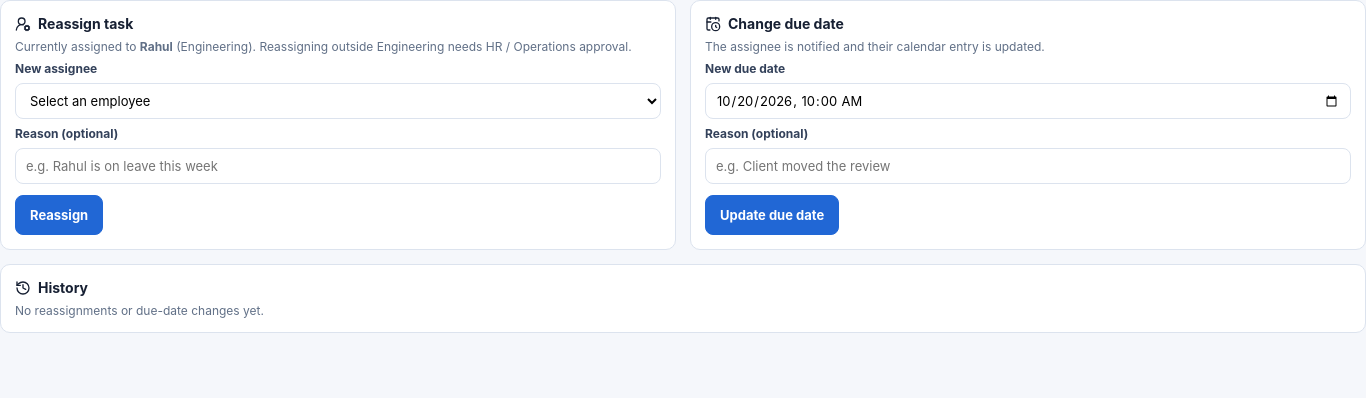
TaskManagePanel › labels cross-team reassignment as needing approval
Select "Priya Sharma (Finance)" in the dropdown labelled "New assignee" at {"x": 338, "y": 101}, box [15,83,661,119]
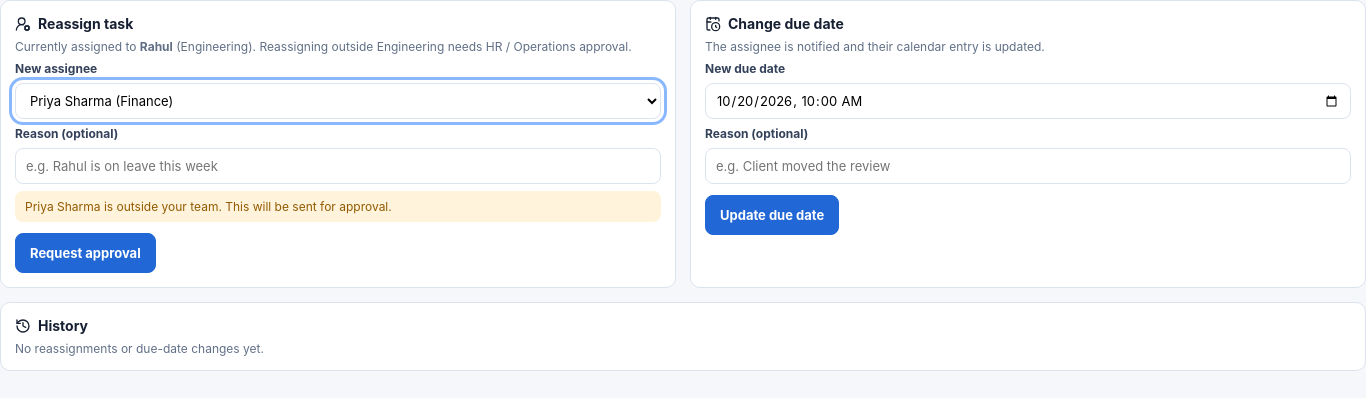
Expected: the text "outside your team. This will be sent for approval" is shown, [100,199,392,214]
Click the button "Request approval".
click(85, 253)  # box [15,233,156,273]
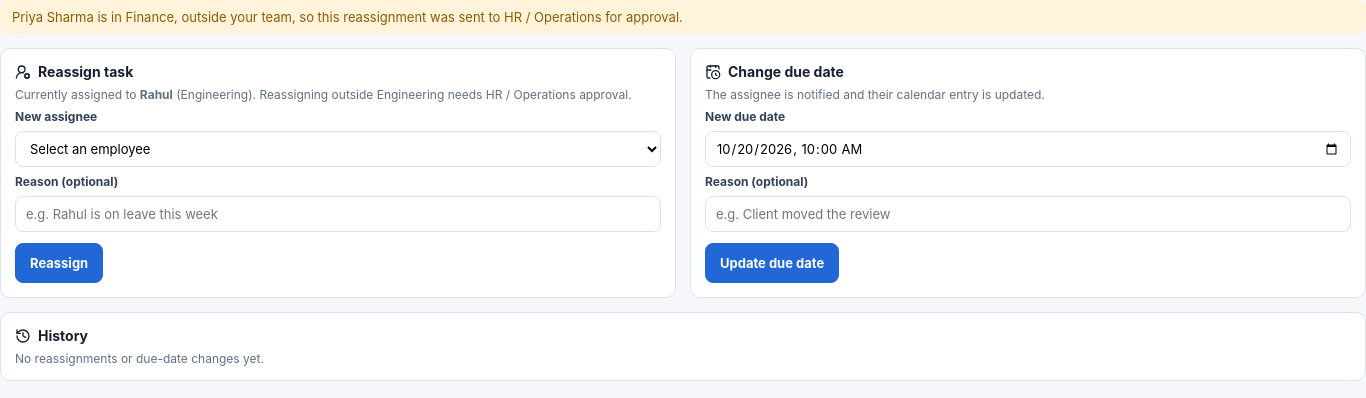
Expected: the text "sent to HR / Operations for approval" is shown, [12,9,683,25]
